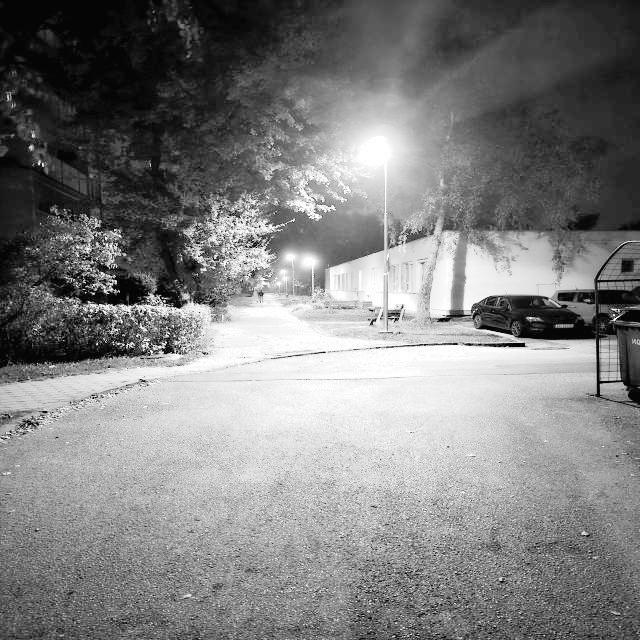Car: (469, 293, 586, 340)
Light: (367, 143, 393, 333), (287, 247, 301, 302), (304, 254, 320, 293), (280, 268, 290, 299), (276, 280, 283, 298)
